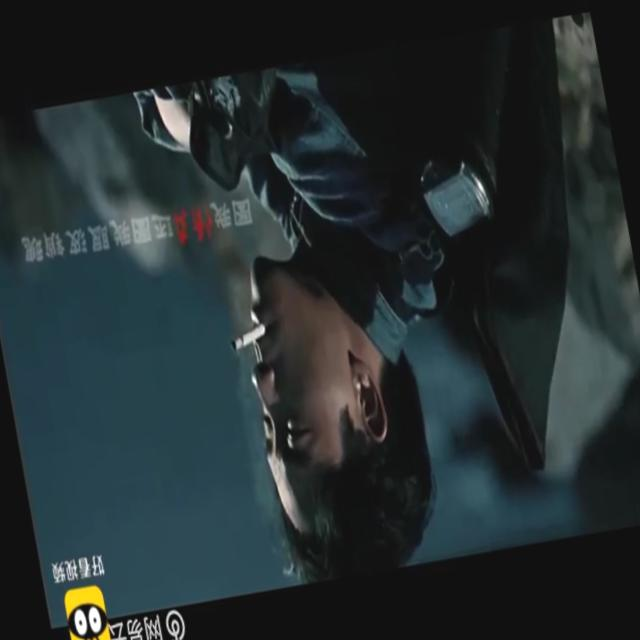smoke: (220, 316, 265, 355)
